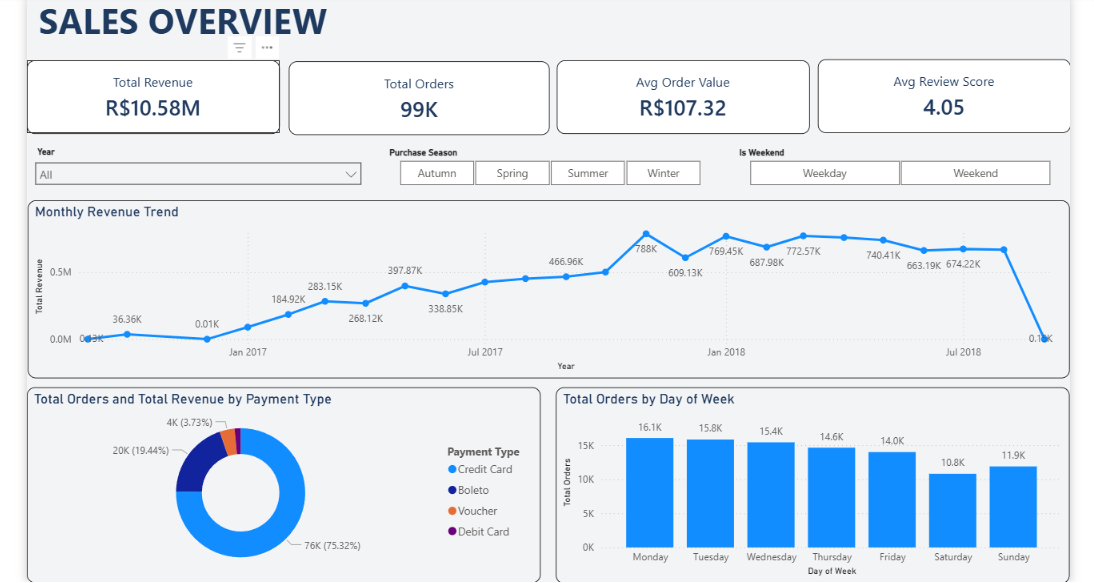

Layout of this report page (visuals, bound fields, positions):
{"tool":"powerbi","page":{"name":"Sales Overview","canvas":[1280,720],"ordinal":0},"visuals":[{"type":"textbox","title":"SALES OVERVIEW","box":[9.6,0,367.8,54.9],"z":0},{"type":"cardVisual","fields":{"Data":["Measures Table.Total Revenue"]},"box":[0,78.6,310,90],"z":1000},{"type":"cardVisual","fields":{"Data":["Measures Table.Total Orders"]},"box":[321.4,80,320,90],"z":2000},{"type":"cardVisual","fields":{"Data":["Measures Table.Avg Review Score"]},"box":[970,77.1,310,90],"z":3000},{"type":"cardVisual","fields":{"Data":["Measures Table.Avg Order Value"]},"box":[650,78.6,310,90],"z":4000},{"type":"lineChart","title":"Monthly Revenue Trend","fields":{"Y":["Measures Table.Total Revenue"],"Category":["Date Table.Date.Variation.Date Hierarchy.Year","Date Table.Date.Variation.Date Hierarchy.Month"]},"box":[1.4,250,1278.6,218.6],"z":5000},{"type":"slicer","fields":{"Values":["Date Table.Date.Variation.Date Hierarchy.Year"]},"box":[0,178.6,420,58.6],"z":6000},{"type":"slicer","fields":{"Values":["Brazilian Ecommerce.Purchase Season"]},"box":[431.4,180,418.6,58.6],"z":7000},{"type":"slicer","fields":{"Values":["Date Table.Is Weekend"]},"box":[861.4,180,418.6,58.6],"z":8000},{"type":"clusteredColumnChart","title":"Total Orders by Day of Week","fields":{"Category":["Date Table.Day of Week"],"Y":["Measures Table.Total Orders"]},"box":[649.1,479.8,630.7,240.5],"z":9000},{"type":"donutChart","fields":{"Y":["Measures Table.Total Orders"],"Category":["Brazilian Ecommerce.Payment Type"]},"box":[0,480,630,240],"z":10000}]}

Visuals, with their boxes on the page's 1280x720 design canvas (x1, y1, x2, y2). These are canvas units, not pixel positions in the 1094x583 screenshot, which may show the page scaled, cropped or inside an application window:
"SALES OVERVIEW" textbox: x1=10 y1=0 x2=377 y2=55
cardVisual - Measures Table.Total Revenue: x1=0 y1=79 x2=310 y2=169
cardVisual - Measures Table.Total Orders: x1=321 y1=80 x2=641 y2=170
cardVisual - Measures Table.Avg Review Score: x1=970 y1=77 x2=1280 y2=167
cardVisual - Measures Table.Avg Order Value: x1=650 y1=79 x2=960 y2=169
"Monthly Revenue Trend" lineChart: x1=1 y1=250 x2=1280 y2=469
slicer - Date Table.Date.Variation.Date Hierarchy.Year: x1=0 y1=179 x2=420 y2=237
slicer - Brazilian Ecommerce.Purchase Season: x1=431 y1=180 x2=850 y2=239
slicer - Date Table.Is Weekend: x1=861 y1=180 x2=1280 y2=239
"Total Orders by Day of Week" clusteredColumnChart: x1=649 y1=480 x2=1280 y2=720
donutChart - Measures Table.Total Orders x Brazilian Ecommerce.Payment Type: x1=0 y1=480 x2=630 y2=720
